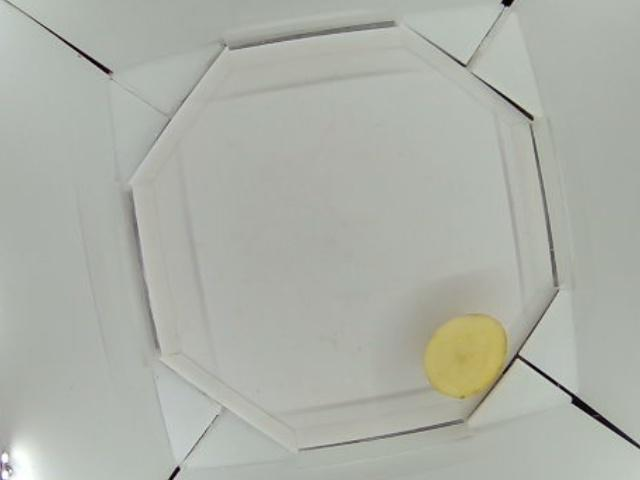Potato: (426, 313, 507, 393)
